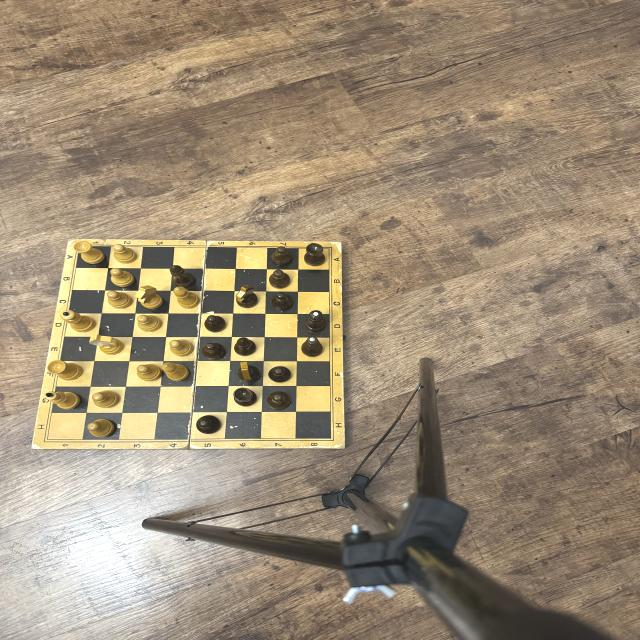black-bishop: (170, 265, 197, 288), (234, 338, 256, 357)
black-king: (302, 336, 324, 357)
black-knight: (236, 284, 258, 308), (238, 361, 261, 383)
black-pawn: (196, 415, 221, 434), (271, 246, 294, 266), (267, 391, 291, 410), (202, 342, 227, 360), (268, 269, 290, 289), (268, 366, 292, 383), (204, 315, 226, 333), (271, 292, 293, 310)
black-queen: (305, 310, 326, 332)
black-rook: (232, 387, 258, 407), (304, 243, 326, 266)
white-bishop: (173, 286, 200, 310), (161, 362, 190, 382)
white-king: (44, 391, 82, 410)
white-knight: (134, 285, 164, 310), (89, 335, 124, 355)
white-pawn: (91, 390, 120, 409), (87, 419, 115, 438), (113, 243, 137, 264), (110, 268, 135, 288), (106, 291, 133, 309), (137, 314, 162, 332), (169, 339, 194, 357), (137, 364, 162, 382)
white-queen: (60, 310, 96, 333)
white-rook: (46, 360, 84, 381), (74, 241, 105, 265)
